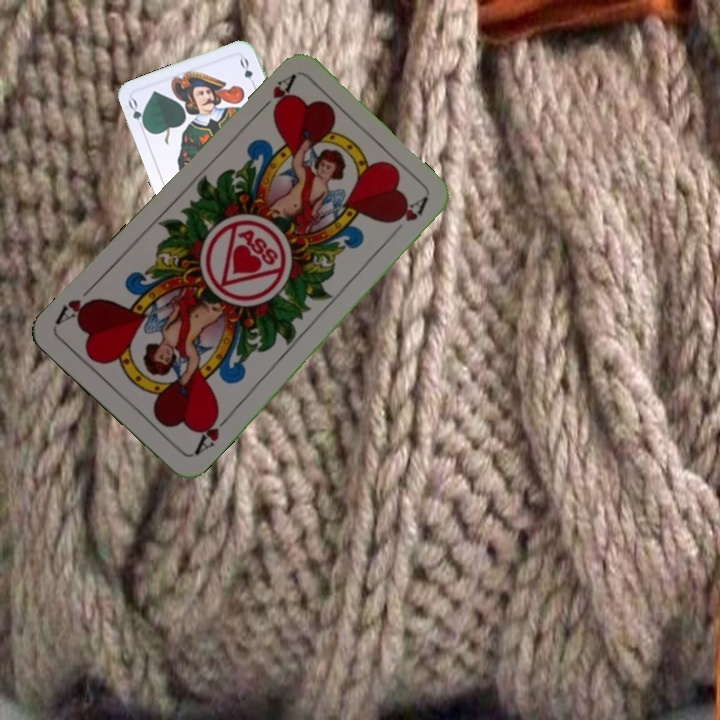GO: (124, 95, 150, 134)
HA: (251, 71, 298, 118), (190, 407, 233, 458)
